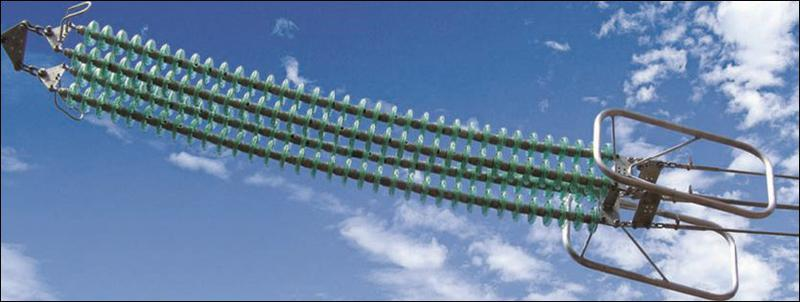isolator: (64, 20, 614, 234)
